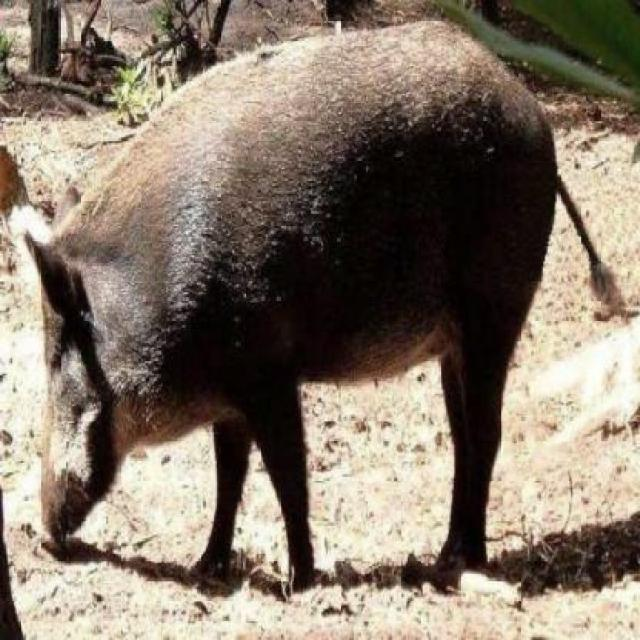Boar: (1, 19, 573, 618)
